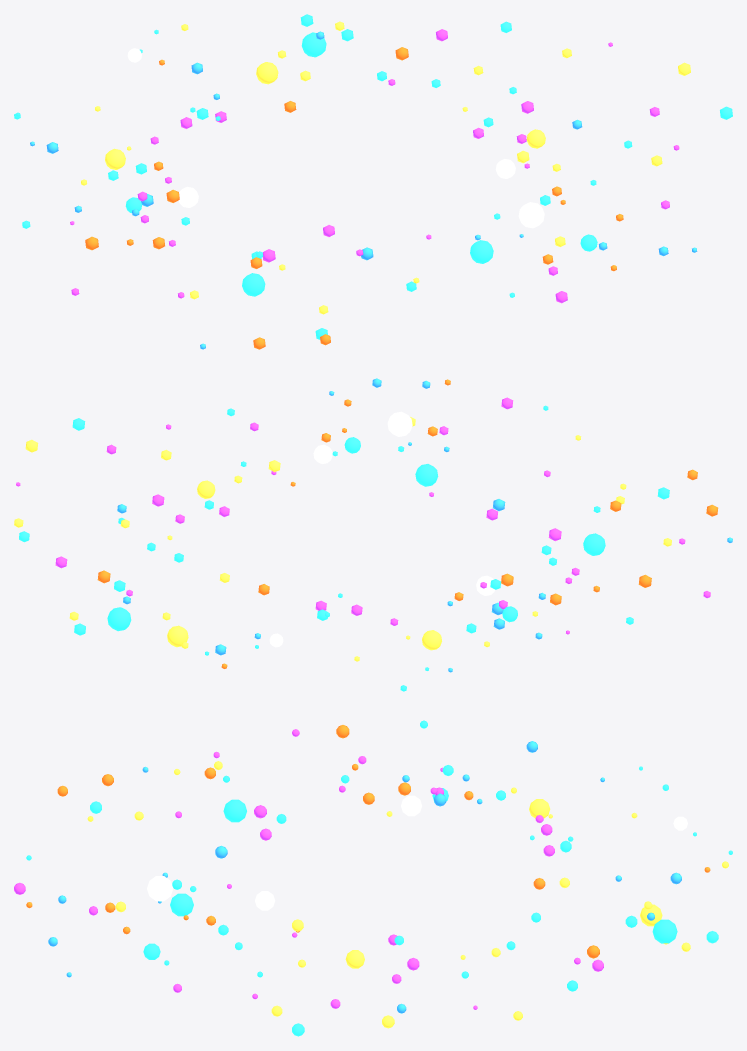
Rendered from energy_particles.glb.
3 views of the same model, one above another, from view 1: azimuth 30°, elevation 25°; view 2: azimuth 150°, elevation 25°; view 3: azimuth 270°, elevation 25° (orthographic). The views are drawn at different scales.
Visible parts, largest first — view 1: energy_particles; view 2: energy_particles; view 3: energy_particles.
Part boxes in pixels (bbox=[...]): energy_particles: bbox=[14, 14, 732, 349]; energy_particles: bbox=[14, 378, 732, 691]; energy_particles: bbox=[14, 720, 732, 1036].
Size of the model in its own units: 6.26 by 0.615 by 5.92.
